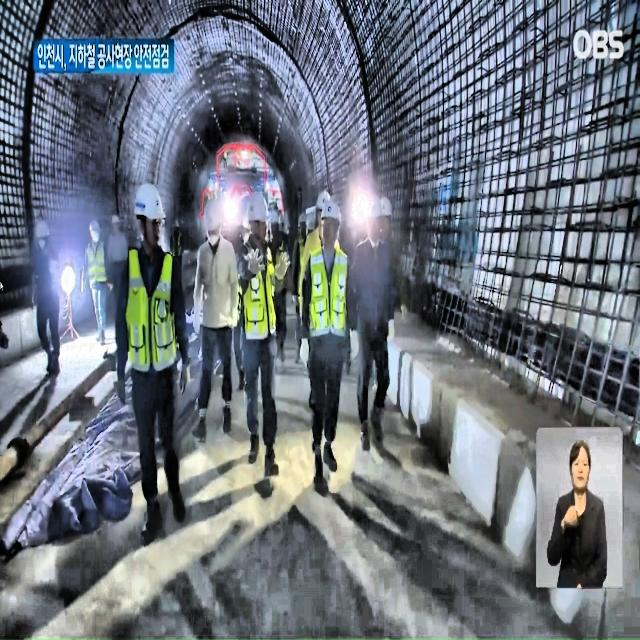safety_helmet: (129, 187, 164, 226), (245, 196, 275, 228), (203, 199, 221, 232), (314, 187, 333, 217), (322, 200, 340, 230), (377, 194, 396, 222), (362, 199, 383, 223), (34, 218, 49, 241), (86, 218, 100, 241)
safety_jacket: (122, 248, 176, 374), (238, 246, 277, 339), (308, 252, 346, 336), (85, 246, 106, 288)
